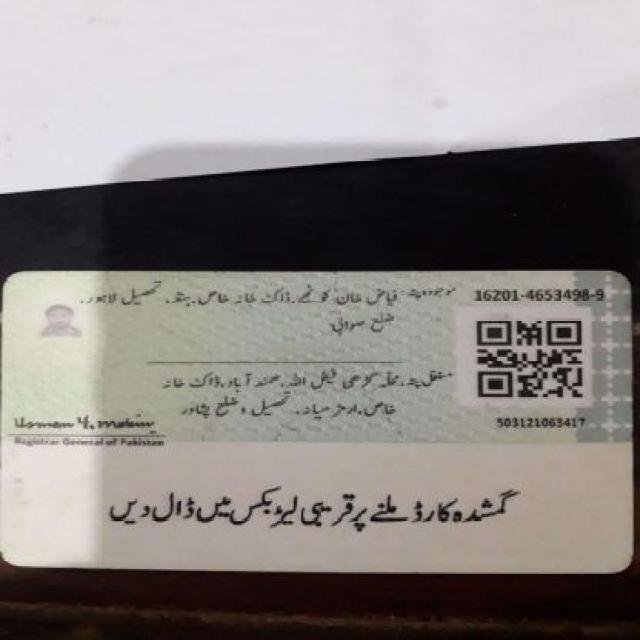Back: (3, 265, 632, 577)
